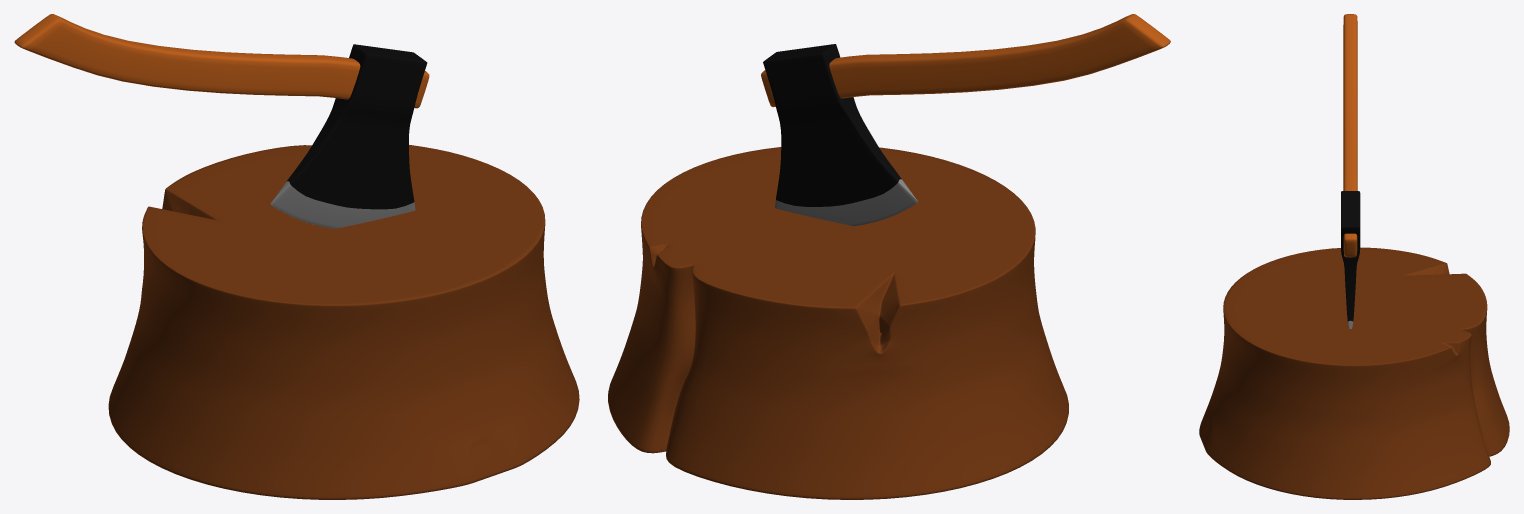
File: tree and axe.fbx
The picture shows the model from 3 angles, left to right: view 1: azimuth 30°, elevation 25°; view 2: azimuth 150°, elevation 25°; view 3: azimuth 270°, elevation 25°; orthographic projection. The views are drawn at different scales.
Parts seen in each view (by area): view 1: Plane007; view 2: Plane007; view 3: Plane007.
Part boxes in pixels (x1=…): Plane007: x1=14, y1=14, x2=579, y2=499; Plane007: x1=608, y1=14, x2=1170, y2=499; Plane007: x1=1199, y1=14, x2=1509, y2=499.
Bounding box in the file's own units: 87.05 × 71.92 × 63.44.
